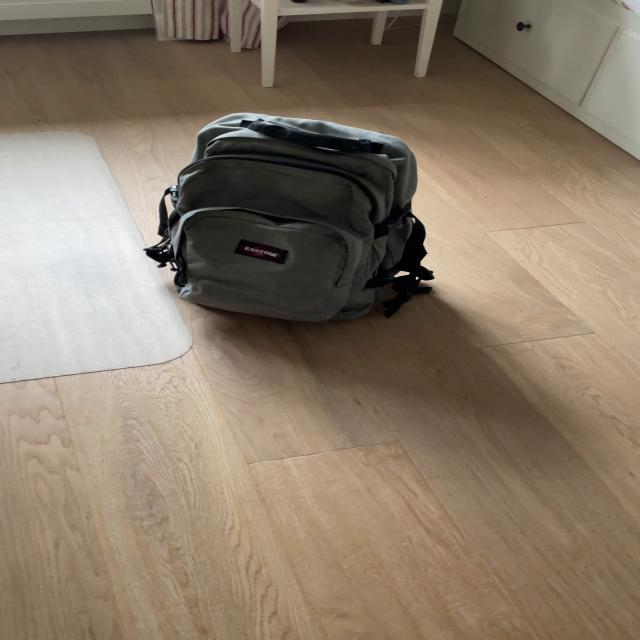backpack: (142, 102, 438, 328)
